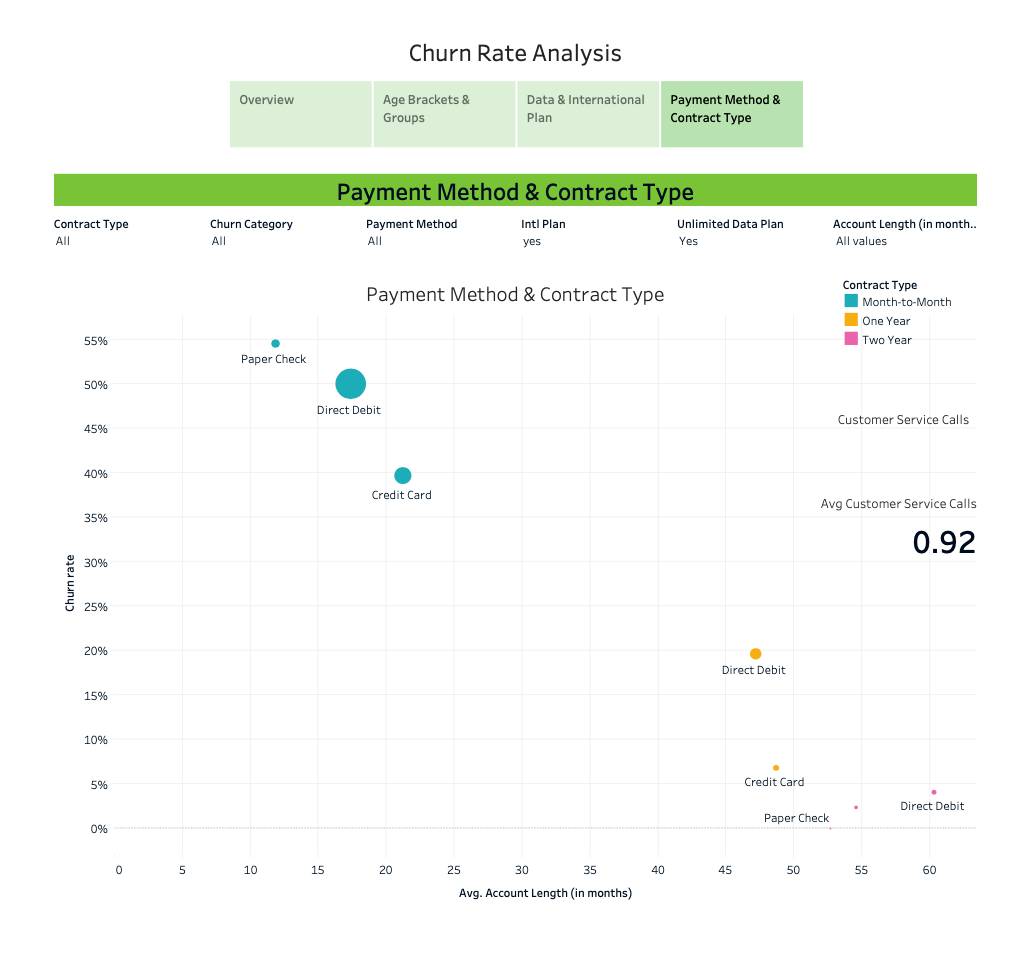

What the dashboard file says about the page in this screenshot:
{"tool":"tableau","page":{"name":"Payment Method & Contract Type ","canvas":[1000,800],"ordinal":3},"visuals":[{"type":"title","box":[8,8,984,41]},{"type":"filter","title":"Payment Method & Contract Type","param":"[federated.1559pdh1893exj185r2jq1n05w4m].[none:Contract Type:nk]","box":[8,49,164.8,64]},{"type":"filter","title":"Payment Method & Contract Type","param":"[federated.1559pdh1893exj185r2jq1n05w4m].[none:Churn Category:nk]","box":[172.8,49,164.8,64]},{"type":"filter","title":"Payment Method & Contract Type","param":"[federated.1559pdh1893exj185r2jq1n05w4m].[none:Payment Method:nk]","box":[337.6,49,164.8,64]},{"type":"filter","title":"Payment Method & Contract Type","param":"[federated.1559pdh1893exj185r2jq1n05w4m].[none:Intl Plan:nk]","box":[502.4,49,164.8,64]},{"type":"filter","title":"Payment Method & Contract Type","param":"[federated.1559pdh1893exj185r2jq1n05w4m].[none:Unlimited Data Plan:nk]","box":[667.2,49,164.8,64]},{"type":"filter","title":"Payment Method & Contract Type","param":"[federated.1559pdh1893exj185r2jq1n05w4m].[none:Account Length (in months):qk]","box":[832,49,160,64]},{"type":"worksheet","title":"Payment Method & Contract Type","mark":"Circle","rows":["Calculation_161848126833676291"],"cols":["Account Length (in months)"],"box":[8,113,984,679]},{"type":"legend","title":"Payment Method & Contract Type","param":"[federated.1559pdh1893exj185r2jq1n05w4m].[none:Contract Type:nk]","box":[845,117,140,78]},{"type":"worksheet","title":"Customer Service Calls","mark":"Automatic","box":[836,255,148,95]},{"type":"worksheet","title":"Avg Customer Service Calls","mark":"Automatic","box":[795,344,197,101]}]}

Visuals, with their boxes on the page's 1000x800 design canvas (x1, y1, x2, y2). These are canvas units, not pixel positions in the 1027x958 screenshot, which may show the page scaled, cropped or inside an application window:
title: (8, 8, 992, 49)
"Payment Method & Contract Type" filter: (8, 49, 173, 113)
"Payment Method & Contract Type" filter: (173, 49, 338, 113)
"Payment Method & Contract Type" filter: (338, 49, 502, 113)
"Payment Method & Contract Type" filter: (502, 49, 667, 113)
"Payment Method & Contract Type" filter: (667, 49, 832, 113)
"Payment Method & Contract Type" filter: (832, 49, 992, 113)
"Payment Method & Contract Type" worksheet (Circle marks): (8, 113, 992, 792)
"Payment Method & Contract Type" legend: (845, 117, 985, 195)
"Customer Service Calls" worksheet: (836, 255, 984, 350)
"Avg Customer Service Calls" worksheet: (795, 344, 992, 445)
